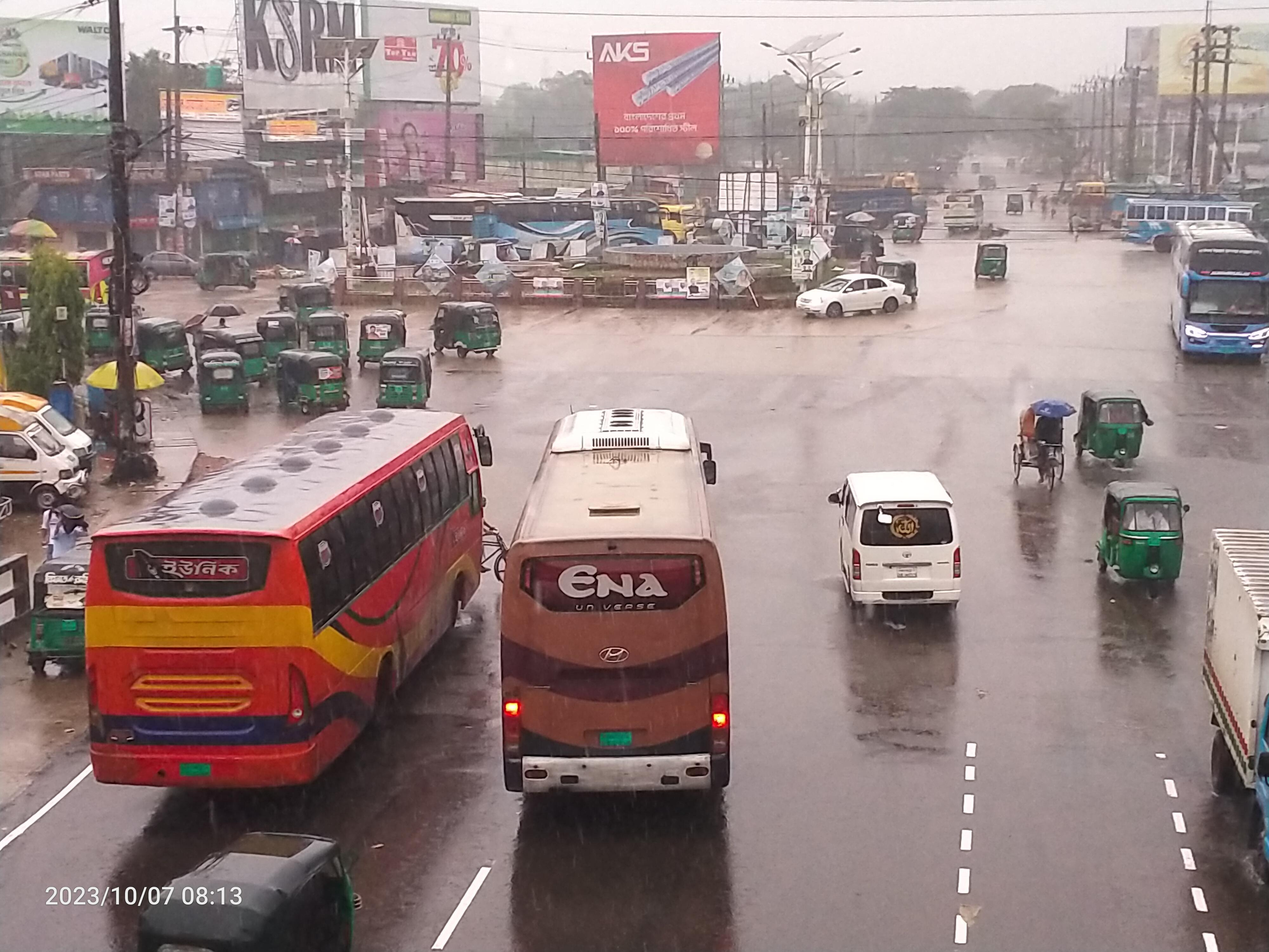Bus: (62, 405, 492, 826), (490, 378, 760, 832), (1160, 204, 1269, 374), (361, 176, 539, 270), (479, 187, 674, 272), (1113, 182, 1269, 260), (0, 223, 121, 321), (930, 176, 988, 235)
Car: (804, 441, 985, 658), (792, 266, 917, 329), (127, 240, 204, 288)
Truck: (1184, 501, 1269, 896), (0, 373, 103, 507)
